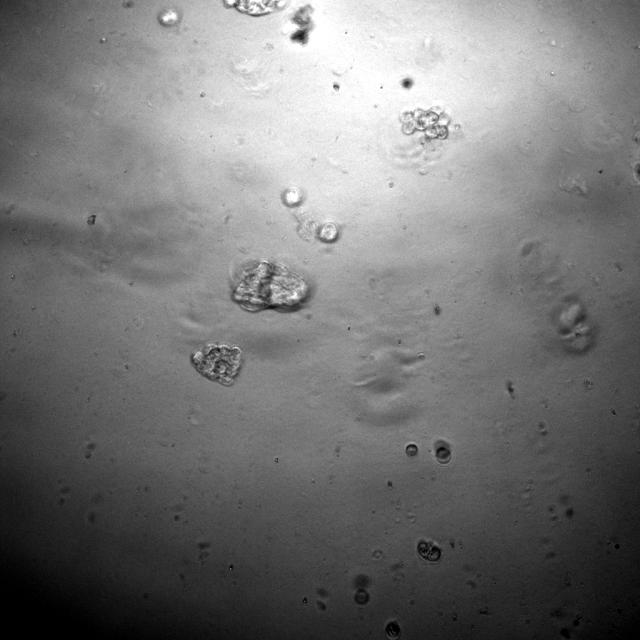organoid: (232, 259, 308, 311), (191, 343, 242, 385), (399, 106, 450, 142), (223, 0, 288, 16), (281, 186, 303, 207), (316, 222, 338, 242)
